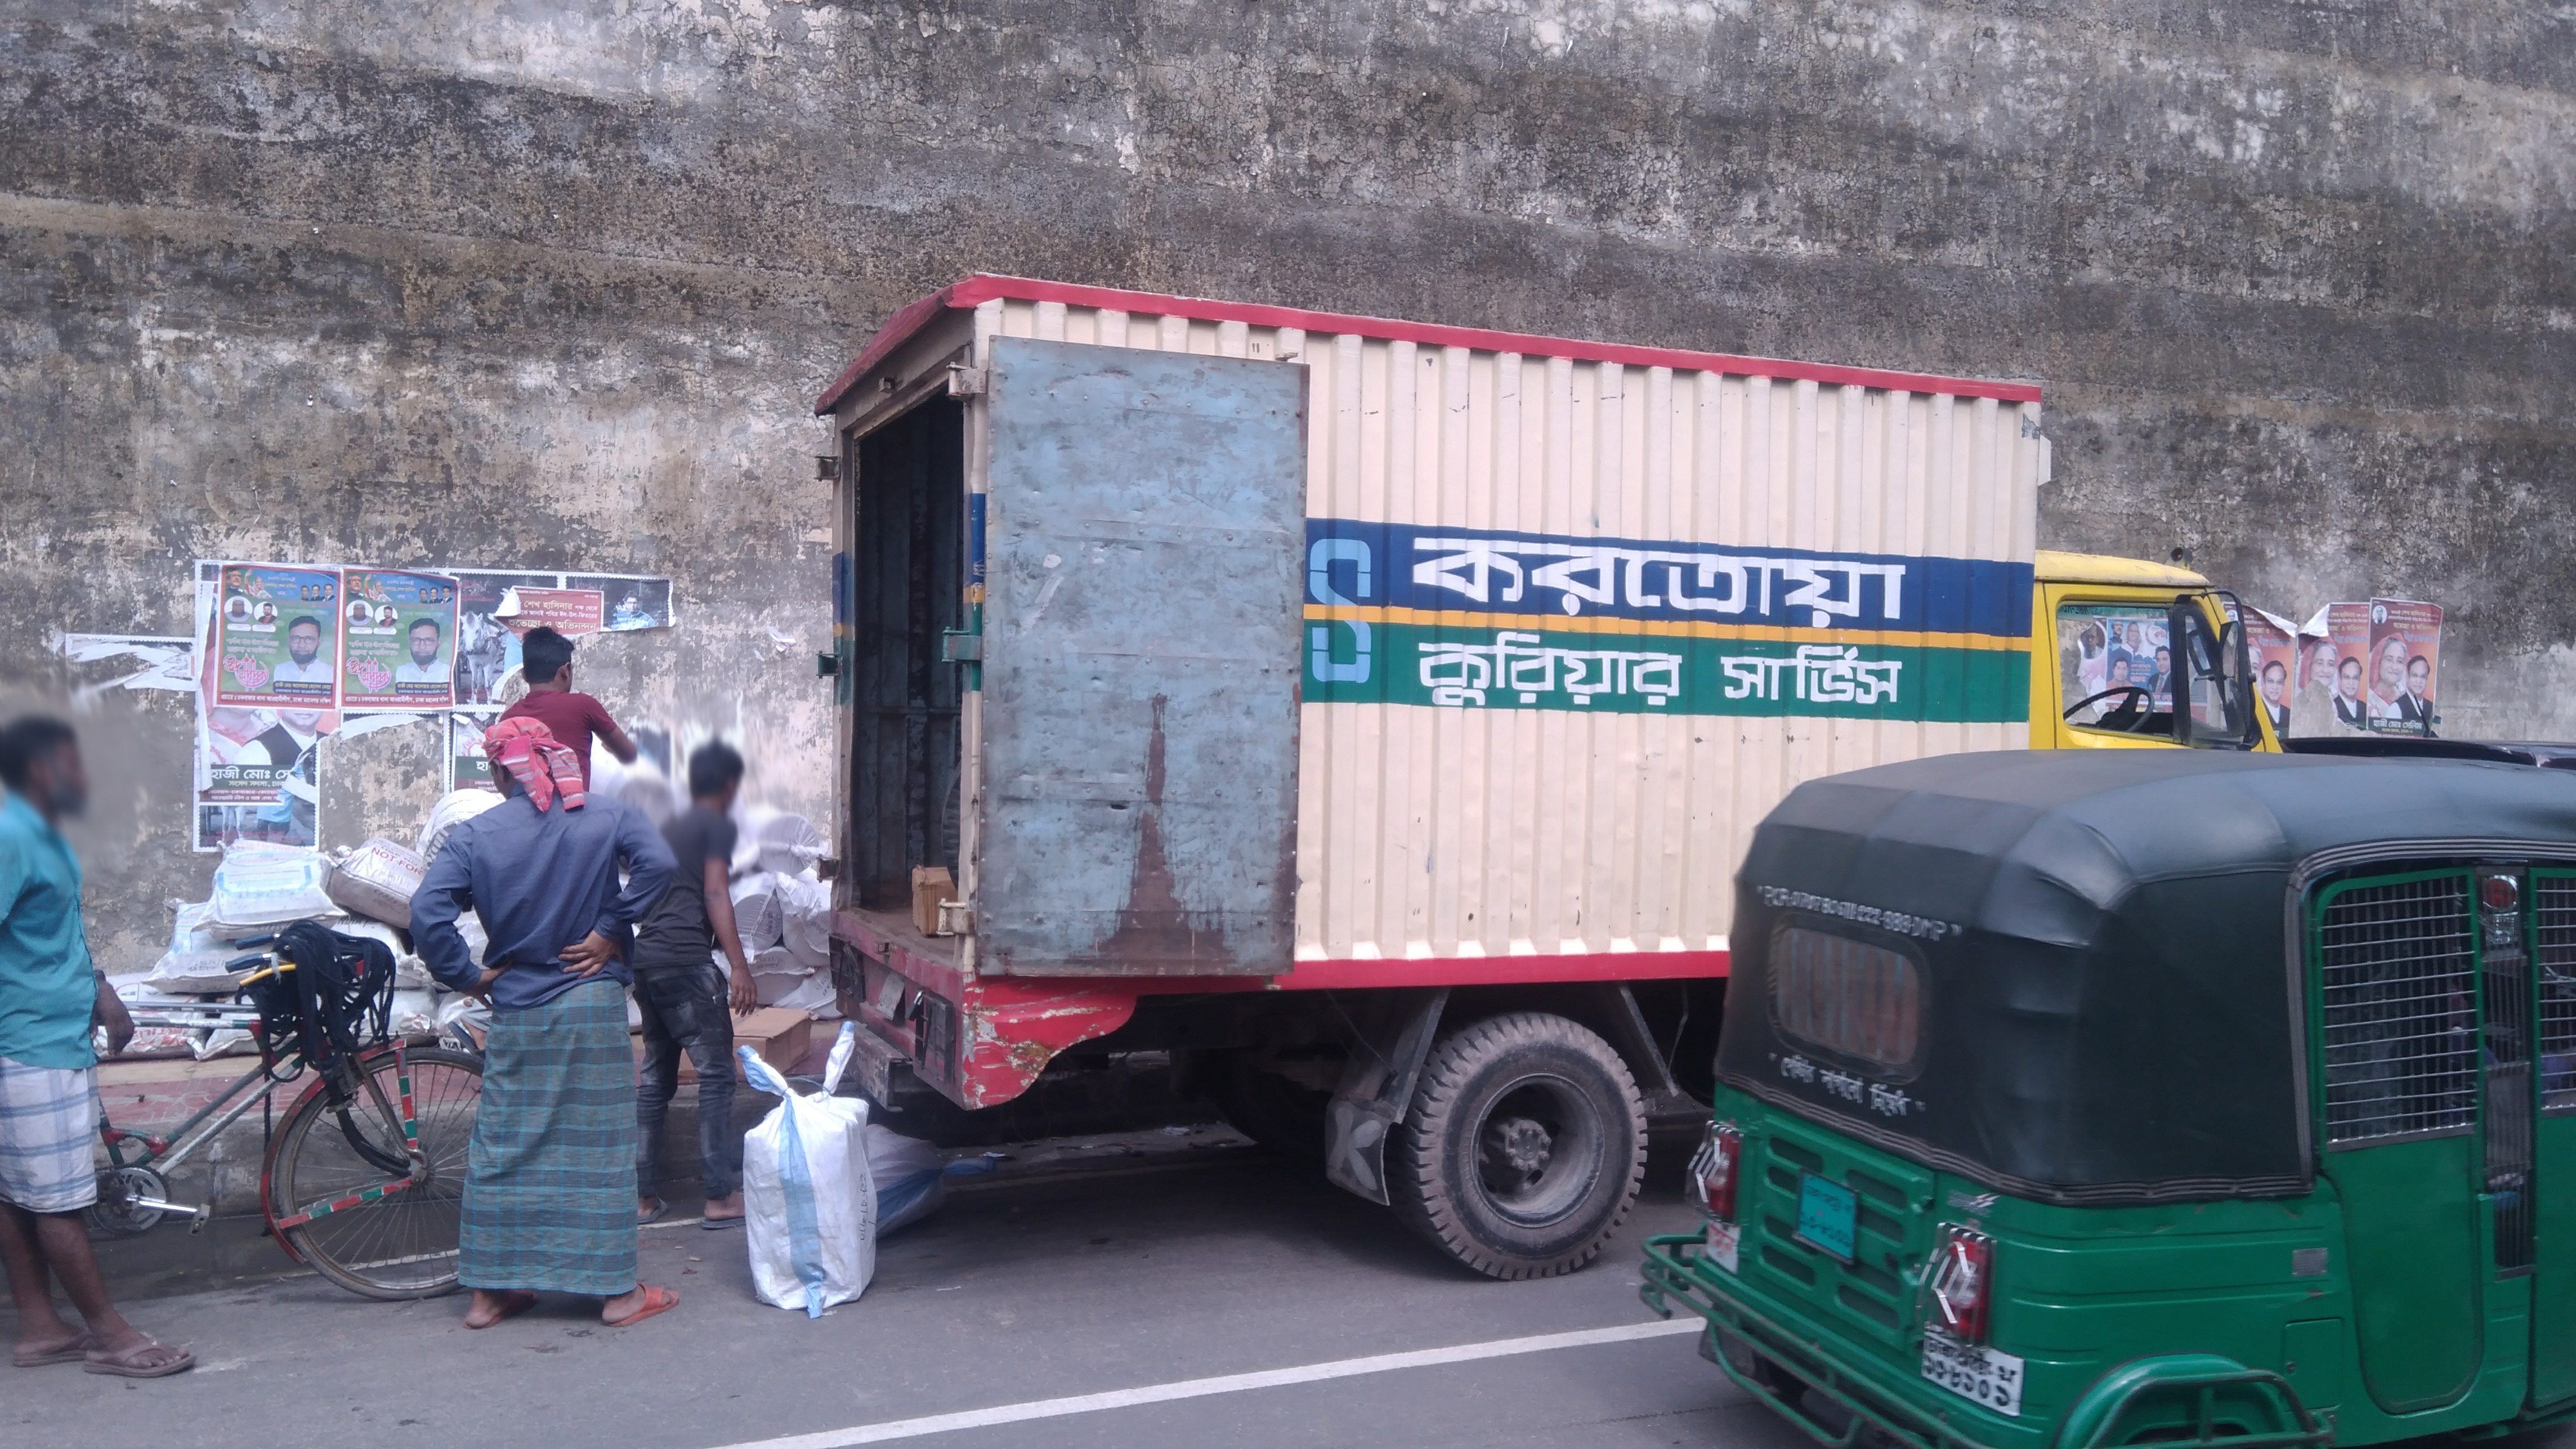cng: (1635, 725, 2576, 1444)
truck: (809, 244, 2293, 1290)
van: (0, 904, 605, 1355)
